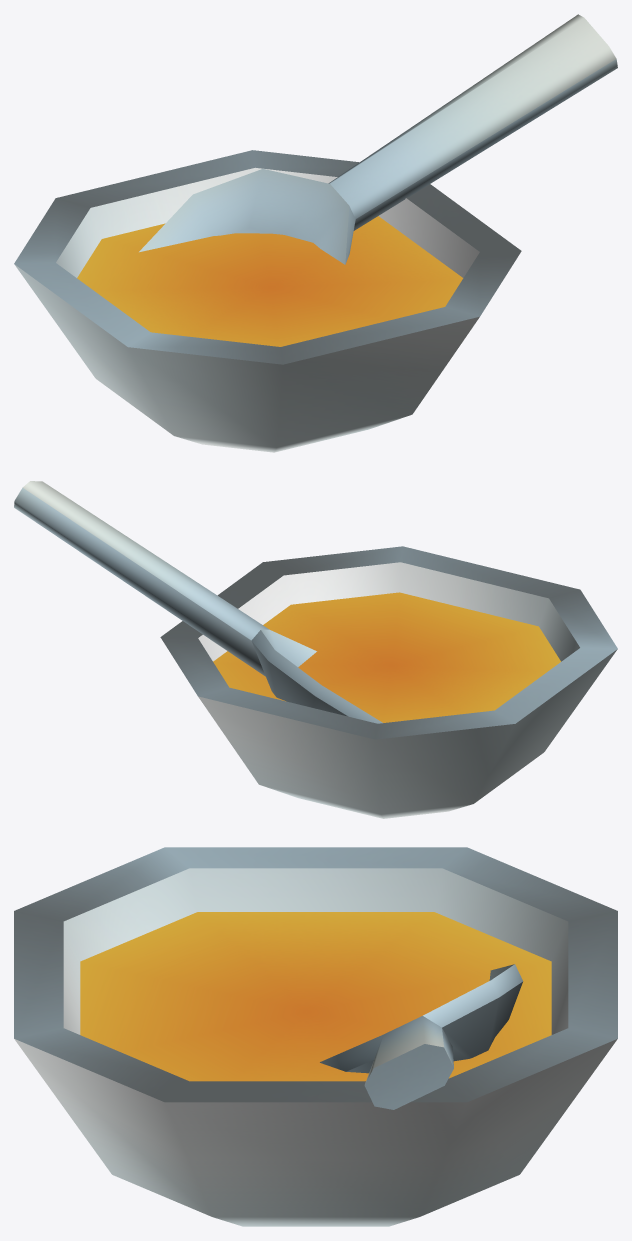
File: bowl_soup_spoon.fbx
The picture shows the model from 3 angles, top to bottom: view 1: azimuth 30°, elevation 25°; view 2: azimuth 150°, elevation 25°; view 3: azimuth 270°, elevation 25°; orthographic projection. The views are drawn at different scales.
Parts seen in each view (by area): view 1: bowl_soup_spoon; view 2: bowl_soup_spoon; view 3: bowl_soup_spoon.
Boxes of the visible parts, bbox=[...] form: bowl_soup_spoon: bbox=[14, 14, 617, 452]; bowl_soup_spoon: bbox=[14, 481, 617, 818]; bowl_soup_spoon: bbox=[14, 847, 617, 1226].
Size of the model in its own units: 42.5 by 19 by 29.37.
